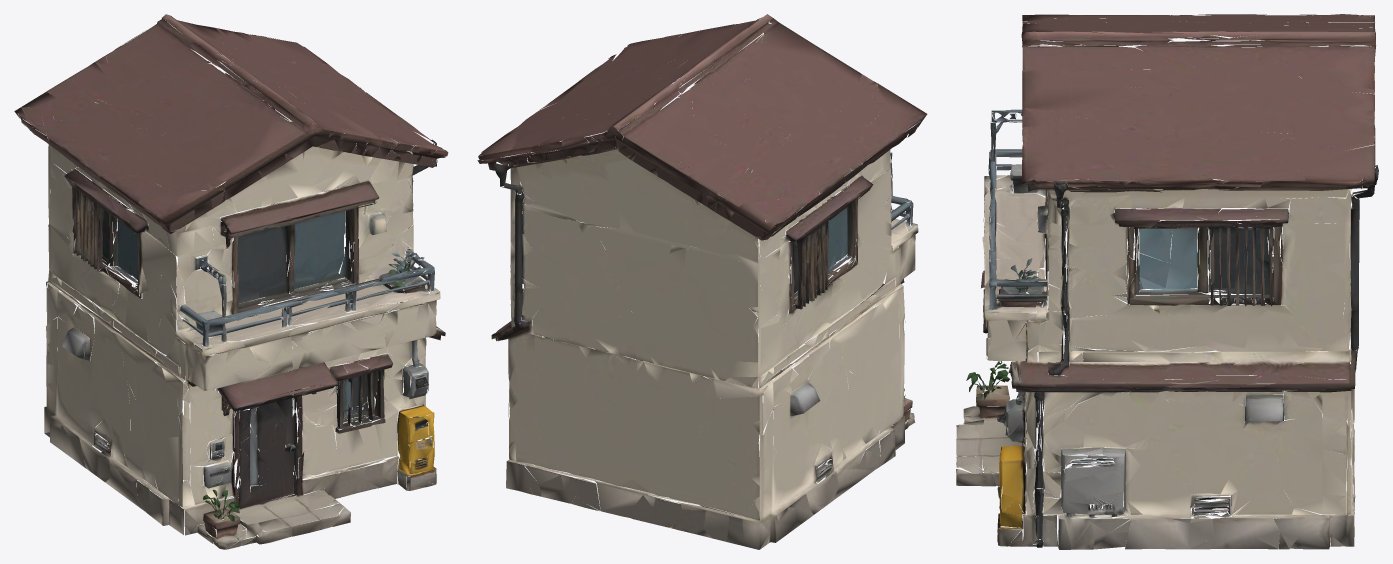
The model's file is building24.glb.
The picture shows the model from 3 angles, left to right: view 1: azimuth 30°, elevation 25°; view 2: azimuth 150°, elevation 25°; view 3: azimuth 270°, elevation 25°; orthographic projection. The views are drawn at different scales.
Visible parts, largest first — view 1: tripo_node_5d831b95-a9a2-4ac4-aafd-e78123e26cd7; view 2: tripo_node_5d831b95-a9a2-4ac4-aafd-e78123e26cd7; view 3: tripo_node_5d831b95-a9a2-4ac4-aafd-e78123e26cd7.
Part boxes in pixels (x1=…): tripo_node_5d831b95-a9a2-4ac4-aafd-e78123e26cd7: x1=14, y1=14, x2=448, y2=549; tripo_node_5d831b95-a9a2-4ac4-aafd-e78123e26cd7: x1=477, y1=14, x2=927, y2=549; tripo_node_5d831b95-a9a2-4ac4-aafd-e78123e26cd7: x1=956, y1=14, x2=1378, y2=549.
Bounding box in the file's own units: 0.7815 × 0.982 × 0.8334.
1 material, 1 textured.
